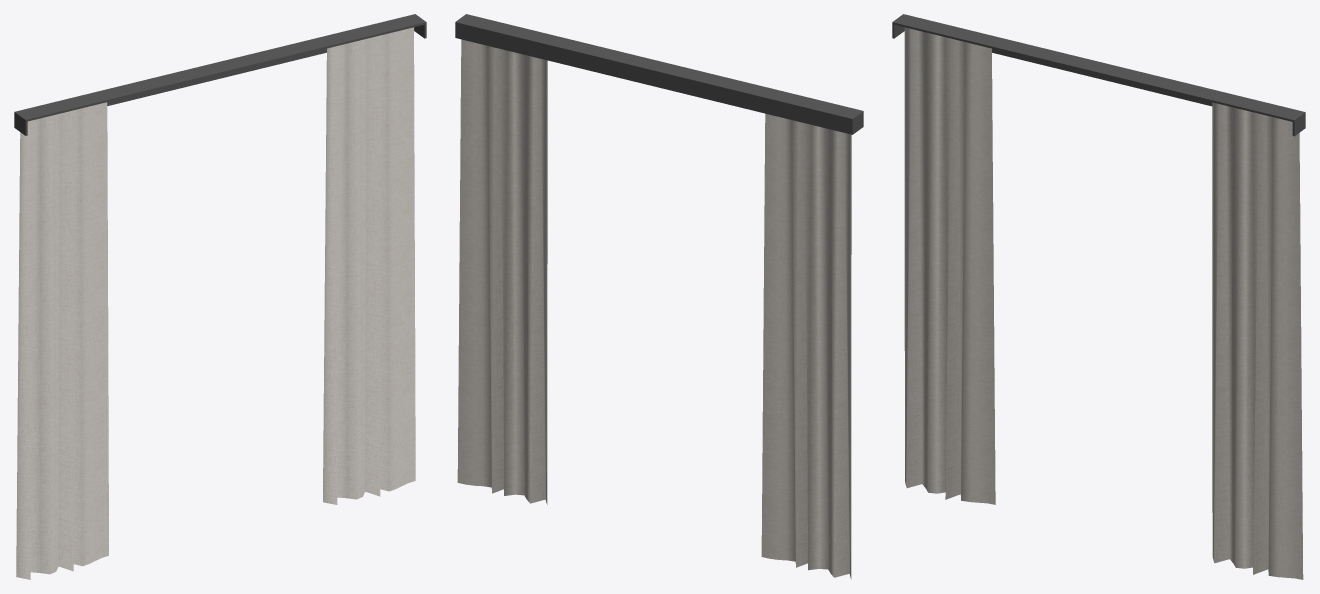
The model's file is WAL0110006.fbx.
3 views of the same model, side by side, from view 1: azimuth 30°, elevation 25°; view 2: azimuth 150°, elevation 25°; view 3: azimuth 330°, elevation 25° (orthographic).
Parts seen in each view (by area): view 1: smWAL0110006; view 2: smWAL0110006; view 3: smWAL0110006.
Boxes of the visible parts, x1,y1,x2,y2 form: smWAL0110006: (14,14,426,579); smWAL0110006: (455,14,863,579); smWAL0110006: (892,14,1305,579).
Size of the model in its own units: 304 by 337 by 16.87.
1 material, 1 textured.
